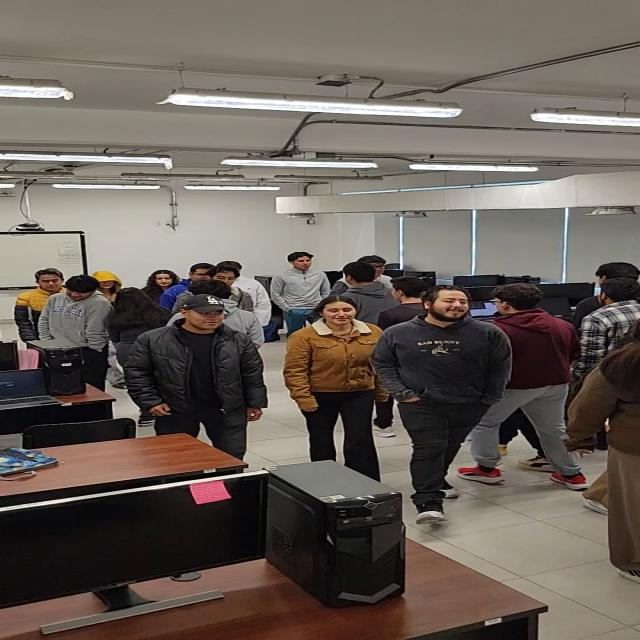Persona: (386, 284, 484, 522), (138, 293, 262, 462), (492, 279, 581, 486), (289, 297, 388, 480), (41, 274, 103, 381), (280, 250, 324, 344)
